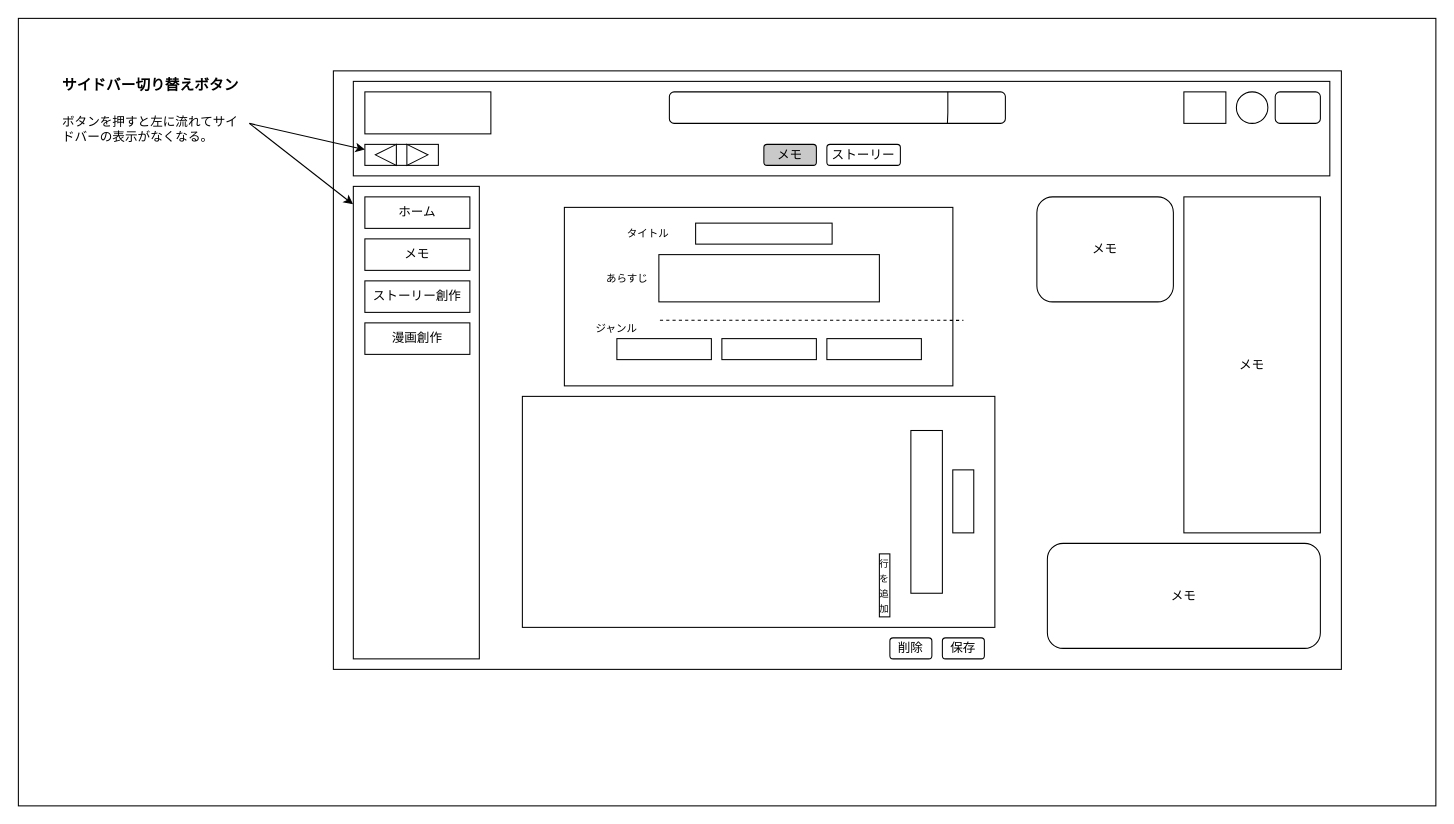
This 1454x824 diagram has some shape labels left out. The centre of each missing label's shape, as x and y in pixels:
LOGO: point (427, 112)
アイコン: point (1251, 107)
セリフ: point (926, 511)
ログアウト: point (1297, 107)
人物名: point (963, 501)
設定: point (1204, 107)
